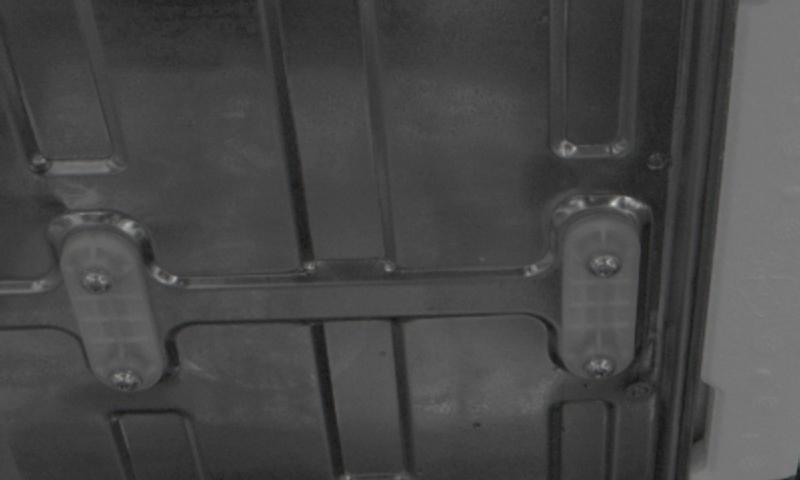vida-ok: (587, 242, 630, 287), (77, 258, 118, 303), (104, 361, 147, 401), (582, 350, 622, 388)
